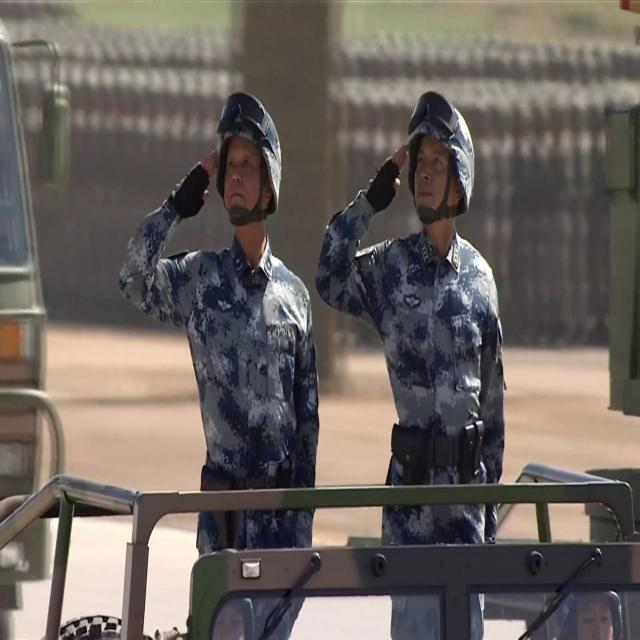Soldier: (358, 85, 518, 538), (167, 84, 329, 522)
